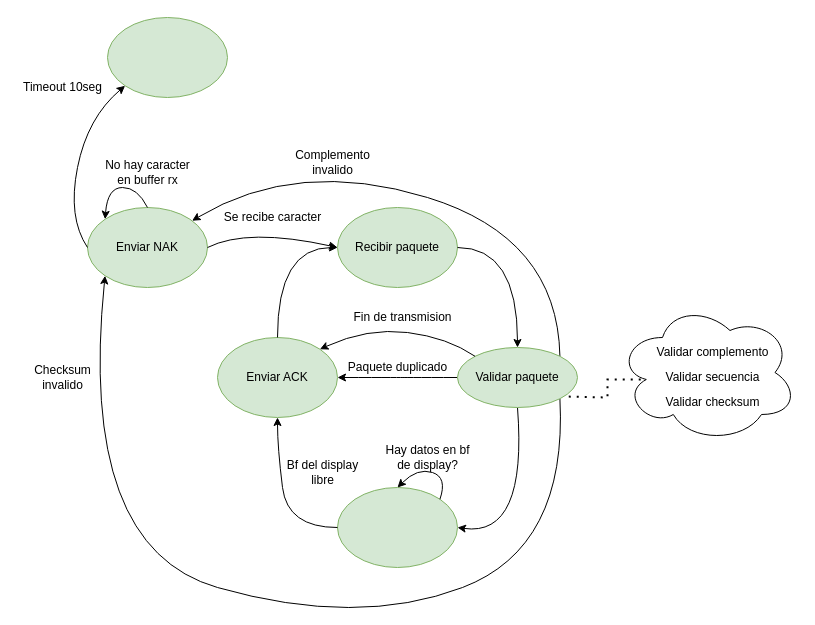
Some shapes in this 815 by 625 pixel diagram are drawn without their labels. Each missing label, with the box of its shape:
Error: (106, 16, 228, 98)
Mostrar en display: (336, 486, 458, 568)
